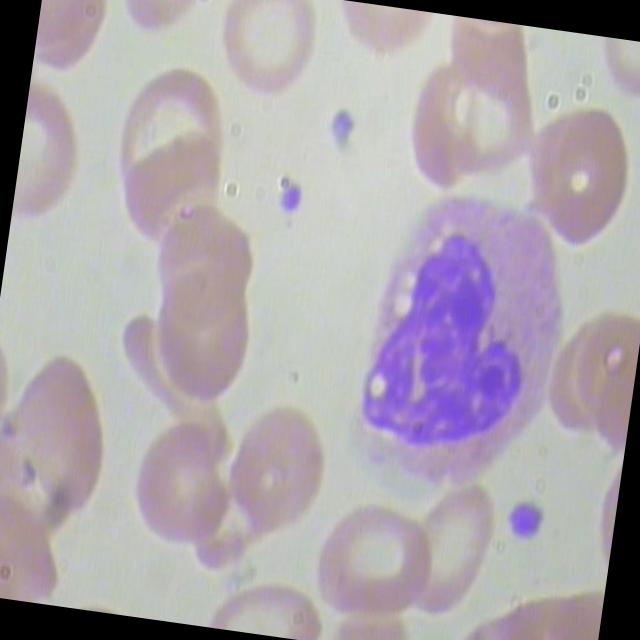Platelets: (499, 493, 548, 553), (324, 100, 368, 155), (272, 176, 314, 222)
RBC: (0, 340, 130, 525), (515, 93, 640, 265), (106, 59, 239, 212), (308, 494, 448, 636), (138, 268, 262, 411), (122, 418, 246, 560), (142, 205, 266, 346), (384, 52, 498, 205), (398, 478, 511, 631), (221, 400, 334, 550), (204, 0, 328, 127)
WBC: (332, 169, 602, 507)
